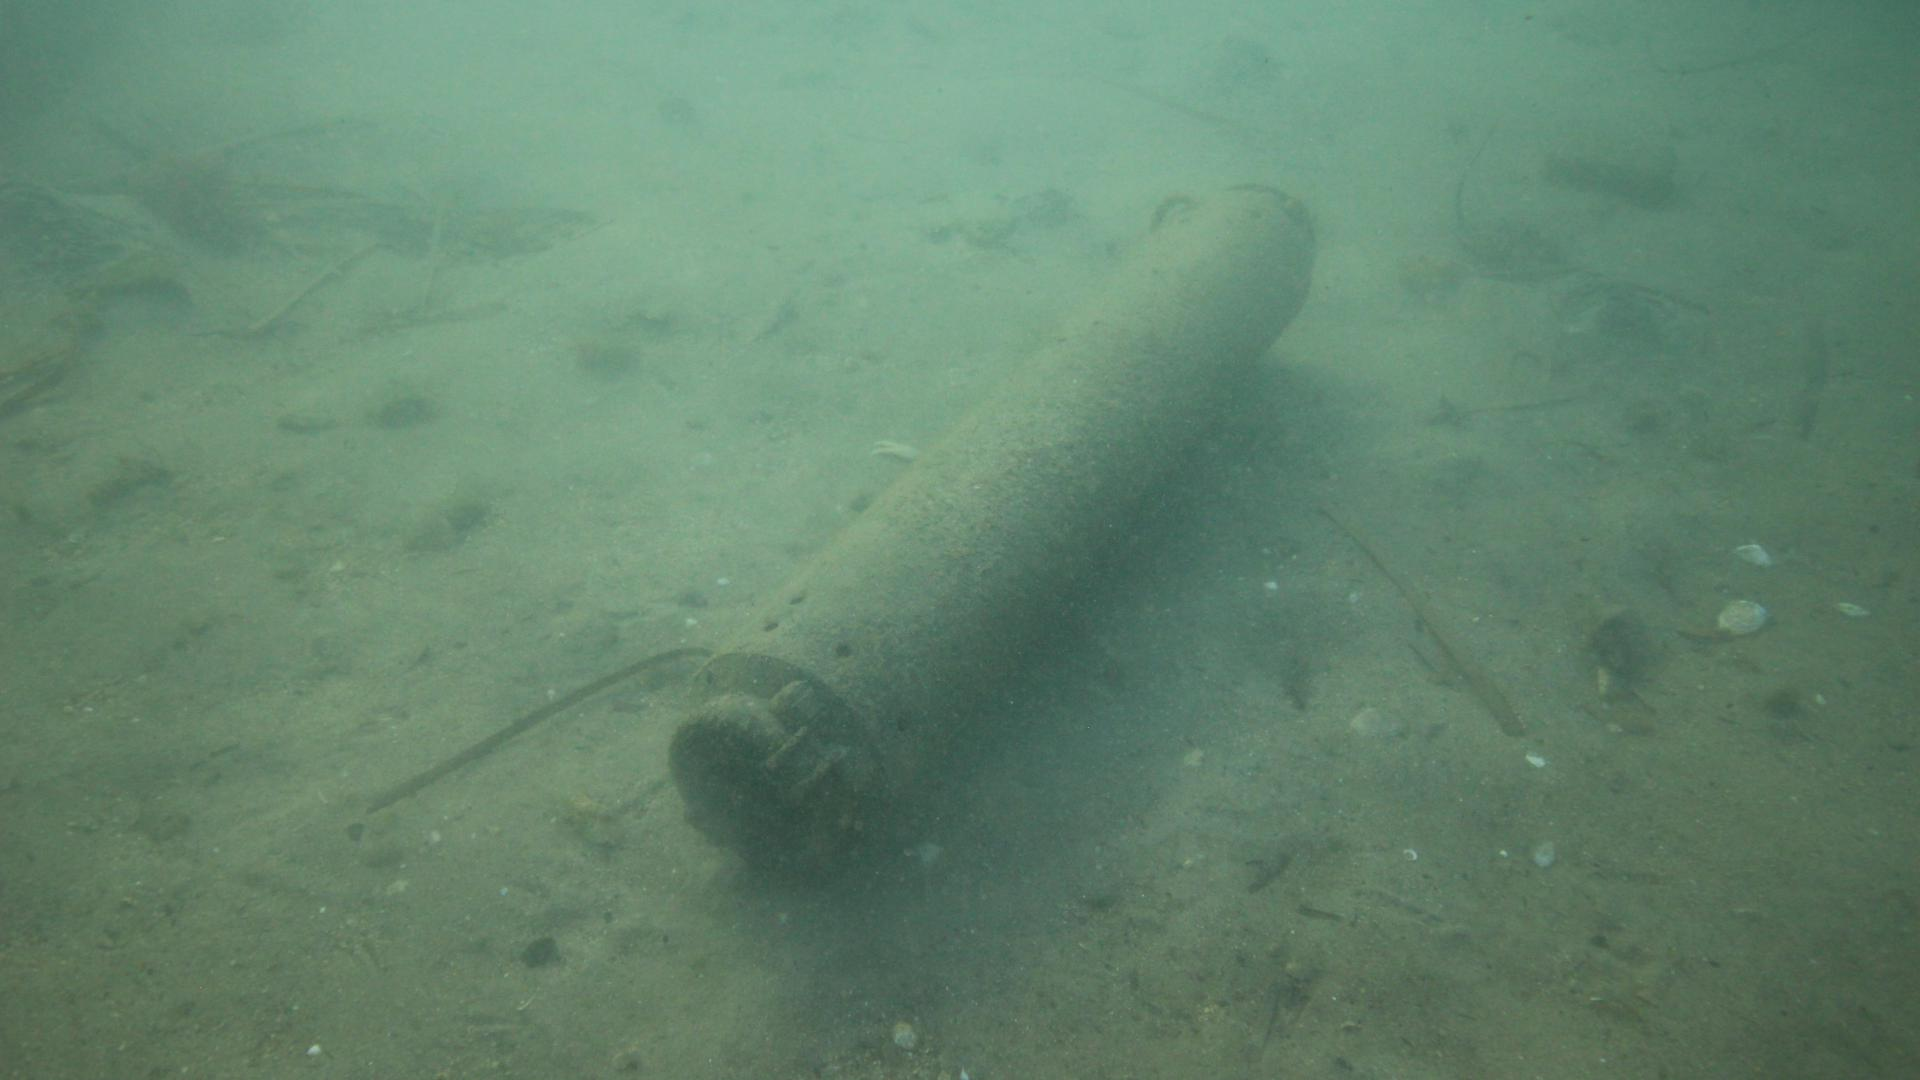eel fish trap: (666, 185, 1315, 884)
